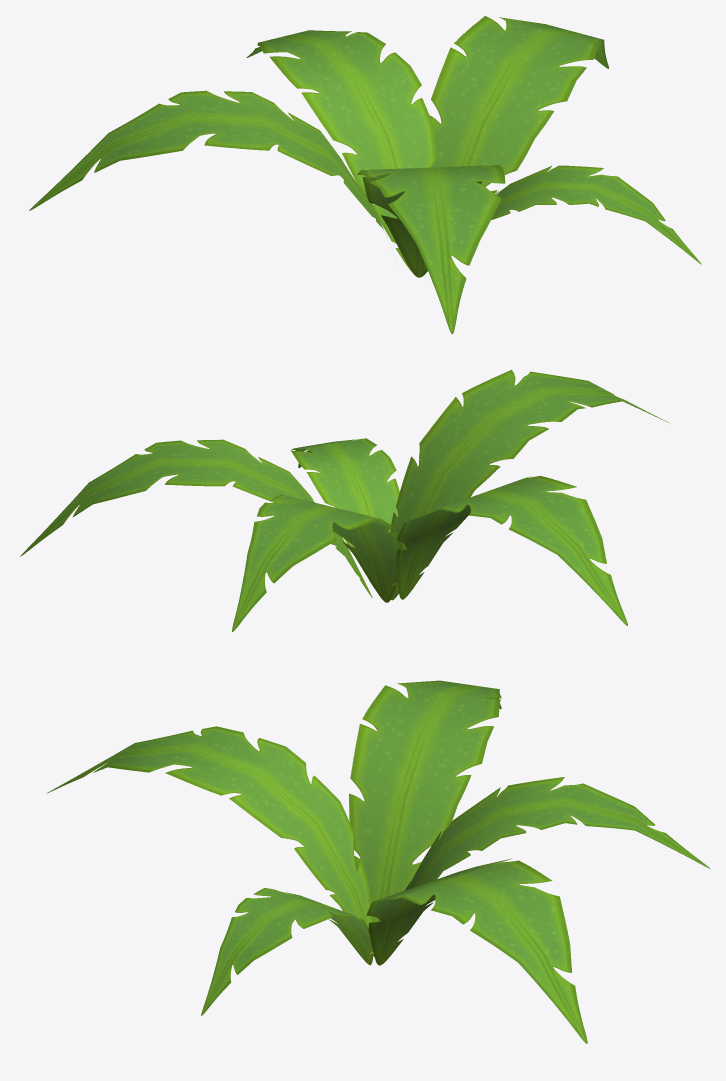
File: Bush.fbx
The picture shows the model from 3 angles, top to bottom: view 1: azimuth 30°, elevation 25°; view 2: azimuth 150°, elevation 25°; view 3: azimuth 270°, elevation 25°; orthographic projection. The views are drawn at different scales.
Visible parts, largest first — view 1: Plane.008; view 2: Plane.008; view 3: Plane.008.
Boxes of the visible parts, x1,y1,x2,y2 form: Plane.008: (29, 16, 701, 334); Plane.008: (20, 369, 670, 631); Plane.008: (46, 680, 710, 1043).
Bounding box in the file's own units: 212 × 54.93 × 194.
Materials: 1 (1 with a texture image).
